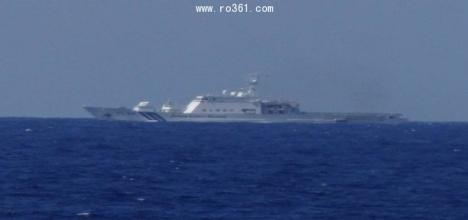warship: (78, 78, 416, 124)
